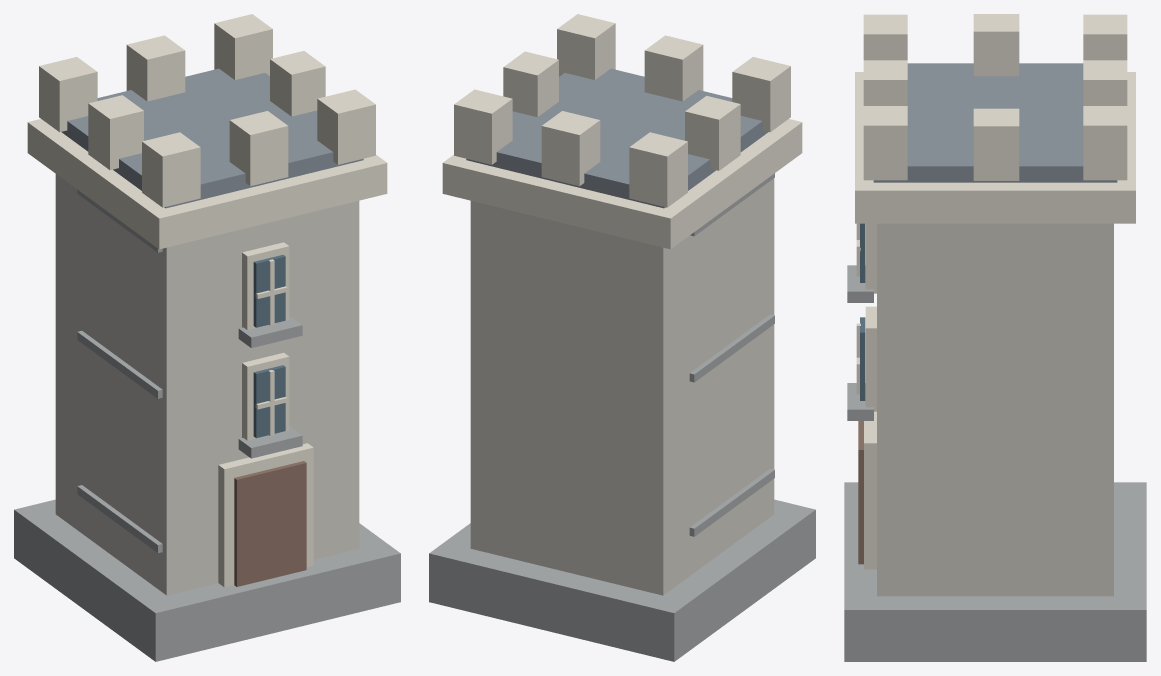
The model's file is tower_2025.gltf.
3 views of the same model, side by side, from view 1: azimuth 30°, elevation 25°; view 2: azimuth 150°, elevation 25°; view 3: azimuth 270°, elevation 25° (orthographic). The views are drawn at different scales.
Parts seen in each view (by area): view 1: tower; view 2: tower; view 3: tower.
Boxes of the visible parts, x1,y1,x2,y2 form: tower: (14,14,400,661); tower: (429,14,815,661); tower: (844,14,1146,661).
Bounding box in the file's own units: 3.16 × 6.09 × 3.16.
